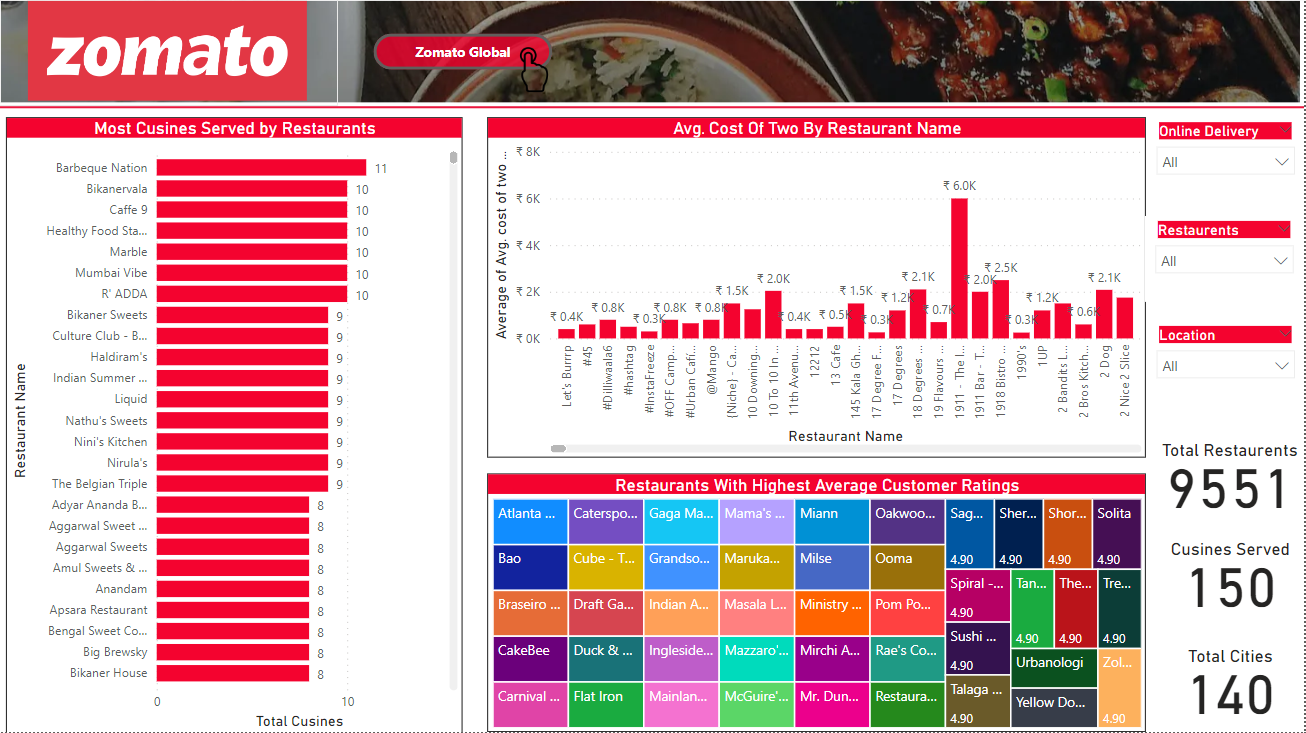

What the dashboard file says about the page in this screenshot:
{"tool":"powerbi","page":{"name":"Zomato Global 2","canvas":[1280,720],"ordinal":1},"visuals":[{"type":"image","box":[0,0,1279.9,108.8],"z":0},{"type":"image","box":[0,0,334.9,107.6],"z":1000},{"type":"shape","box":[0,99,1279.9,19.6],"z":2000},{"type":"slicer","fields":{"Values":["Country Code.Continent","Country Code.Country","Zomato Global.City"]},"box":[1124.6,317.8,155.2,84.3],"z":5000},{"type":"slicer","fields":{"Values":["Fact Table.Has Online delivery"]},"box":[1124.6,118.6,155.2,84.3],"z":6000},{"type":"card","title":"Total Restaurents","fields":{"Values":["Zomato Global.Total Restaurent"]},"box":[1134.4,434,144.2,84.3],"z":7000},{"type":"card","title":"Cusines Served","fields":{"Values":["Count(Cusines.Cuisines)"]},"box":[1134.4,530.5,145.5,84.3],"z":8000},{"type":"card","title":"Total Cities","fields":{"Values":["Count(Zomato Global.City)"]},"box":[1134.4,635.7,145.5,84.3],"z":9000},{"type":"barChart","title":"Most Cusines Served  by Restaurants","fields":{"Category":["Zomato Global.Restaurant Name"],"Y":["Cusines.Total Cusines"]},"box":[9.8,118.6,446.2,602.6],"z":10000},{"type":"actionButton","box":[369.2,36.7,174.8,35.4],"z":11000},{"type":"image","box":[403.4,45.2,245.7,53.8],"z":12000},{"type":"treemap","title":"Restaurants With Highest Average Customer Ratings","fields":{"Group":["Zomato Global.Restaurant Name"],"Values":["Fact Table.Average Rating"]},"box":[480.4,467,644.2,253],"z":13000},{"type":"columnChart","title":"Avg. Cost Of Two By Restaurant Name","fields":{"Category":["Zomato Global.Restaurant Name"],"Y":["Avg(Fact Table.Avg. cost of two in rupees)"]},"box":[480.4,118.6,644.2,332.5],"z":14000},{"type":"slicer","fields":{"Values":["Zomato Global.Restaurant Name"]},"box":[1123.4,215.1,155.2,84.3],"z":15000}]}

Visuals, with their boxes in screenshot pixels (x1, y1, x2, y2), scaled from the page's 1280x720 canvas onto the 1306x733 screenshot:
image: box=[0, 0, 1305, 111]
image: box=[0, 0, 342, 110]
shape: box=[0, 101, 1305, 121]
slicer - Country Code.Continent x Country Code.Country: box=[1147, 324, 1305, 409]
slicer - Fact Table.Has Online delivery: box=[1147, 121, 1305, 207]
"Total Restaurents" card: box=[1157, 442, 1305, 528]
"Cusines Served" card: box=[1157, 540, 1305, 626]
"Total Cities" card: box=[1157, 647, 1305, 732]
"Most Cusines Served  by Restaurants" barChart: box=[10, 121, 465, 732]
actionButton: box=[377, 37, 555, 73]
image: box=[412, 46, 662, 101]
"Restaurants With Highest Average Customer Ratings" treemap: box=[490, 475, 1147, 732]
"Avg. Cost Of Two By Restaurant Name" columnChart: box=[490, 121, 1147, 459]
slicer - Zomato Global.Restaurant Name: box=[1146, 219, 1305, 305]
